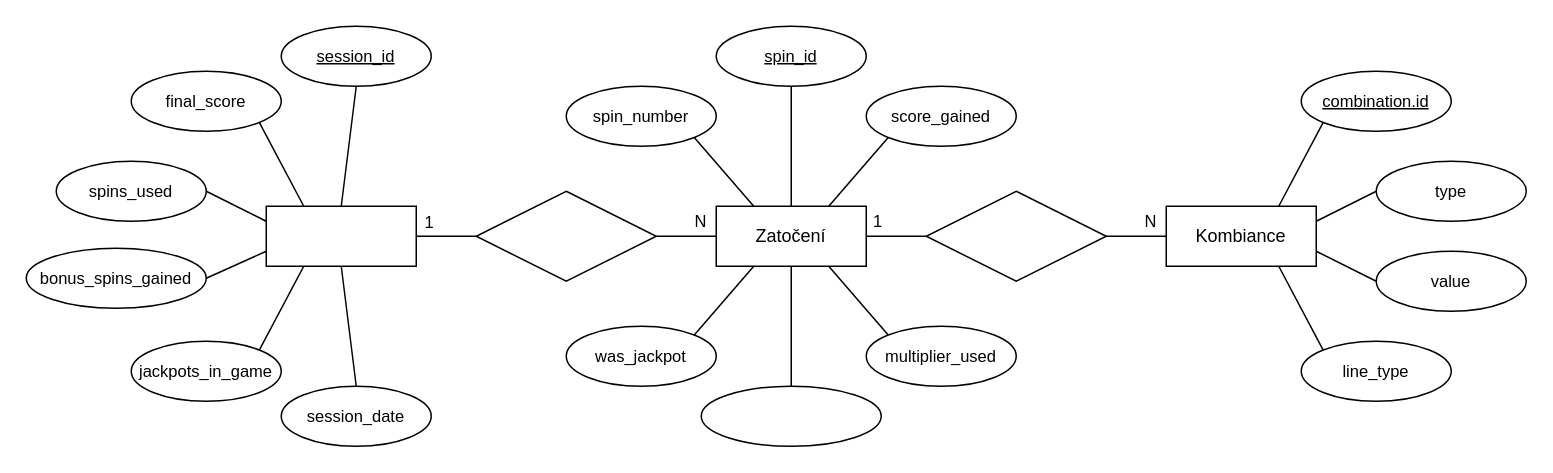
The diagram is 1553 pixels wide and 473 high, and some of its shapes have lost their labels. The shapes that lost their labels are listed below. From the top down, each one's box as (x1, y1, x2, y2) in pixels, then its label:
(265, 205, 416, 266): Herní Sesion
(475, 190, 656, 281): Obsahuje
(925, 190, 1106, 281): Tvoří
(700, 385, 881, 446): bonus_spins_added
